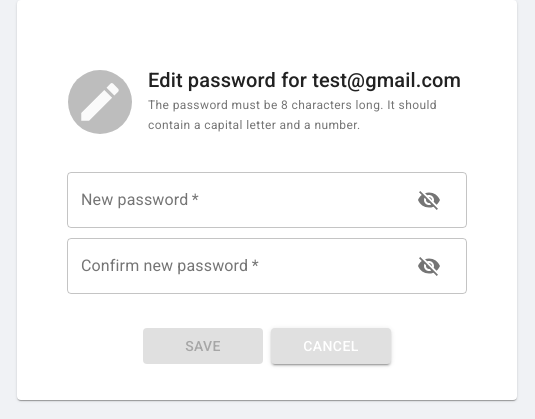
Test case: The ChangePasswordForm component › should display error if no number in password
Type "No number password" into the password field with test id "newPassword" at (232, 200), box [67,172,397,228]
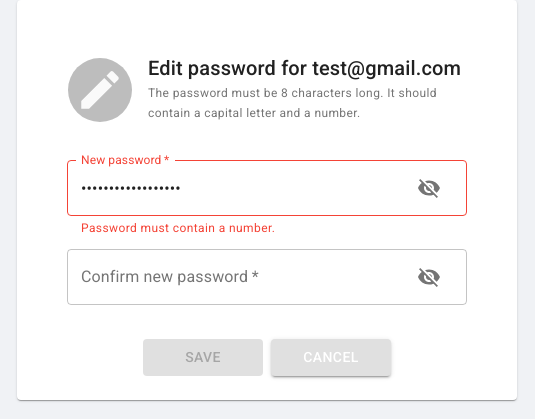
Now the text "Password must contain a number." is shown, box [81,221,275,235]
